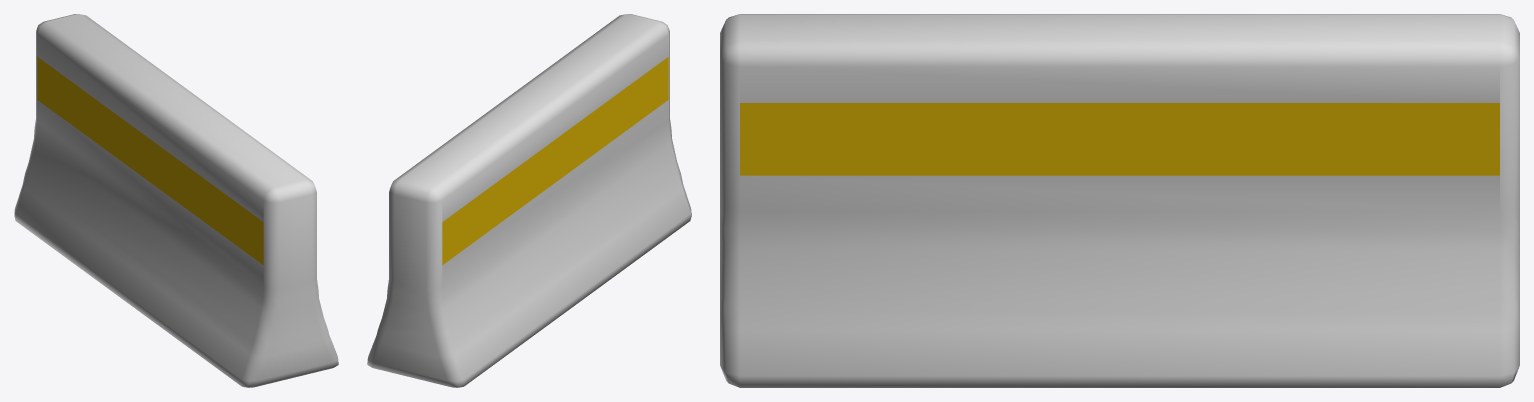
The model's file is barrier.glb.
3 views of the same model, side by side, from view 1: azimuth 30°, elevation 25°; view 2: azimuth 150°, elevation 25°; view 3: azimuth 270°, elevation 25° (orthographic). The views are drawn at different scales.
Parts seen in each view (by area): view 1: Circle; view 2: Circle; view 3: Circle.
Boxes of the visible parts, x1,y1,x2,y2 form: Circle: (14, 14, 338, 387); Circle: (367, 14, 691, 387); Circle: (720, 14, 1519, 387).
Bounding box in the file's own units: 0.9298 × 1.8 × 4.
